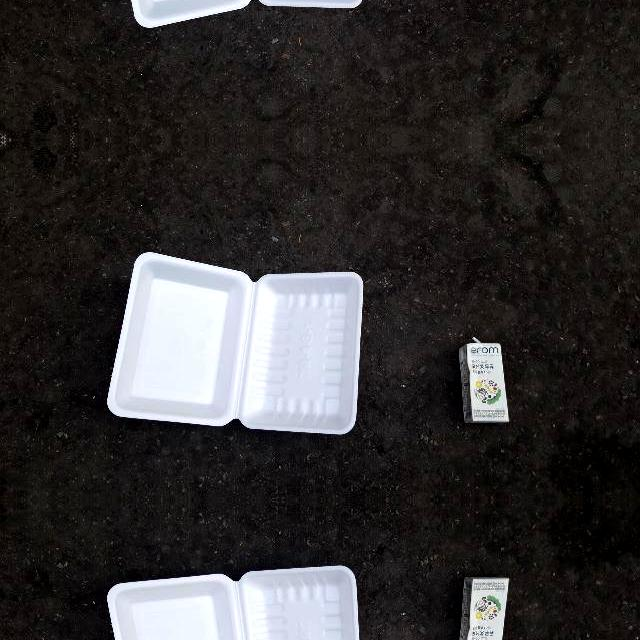Styrofoam: (106, 250, 364, 436), (107, 252, 363, 434), (106, 564, 364, 640), (107, 566, 359, 640)
